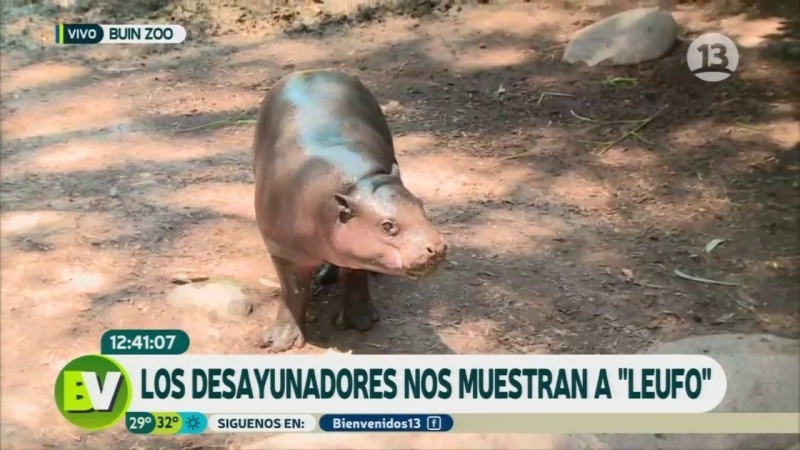hipopotamo: (239, 63, 451, 357)
